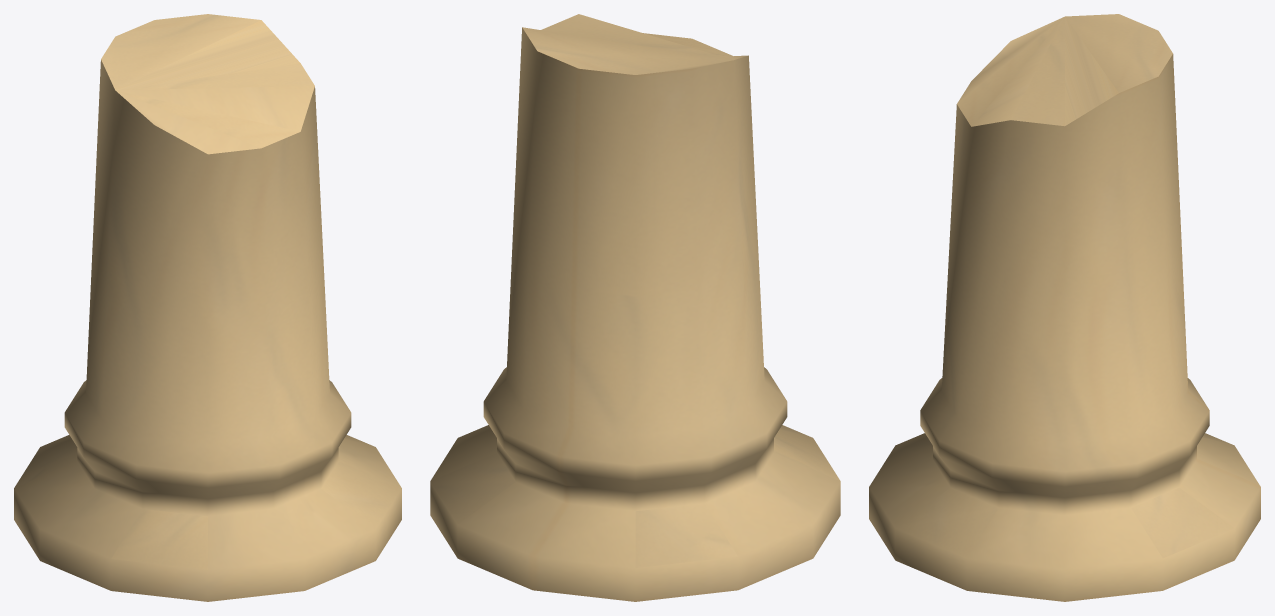
File: Column5B.FBX
3 renders of one model, left to right at view 1: azimuth 30°, elevation 25°; view 2: azimuth 150°, elevation 25°; view 3: azimuth 270°, elevation 25°, orthographic. The views are drawn at different scales.
Visible parts, largest first — view 1: Column5B; view 2: Column5B; view 3: Column5B.
Part boxes in pixels (bbox=[...]): Column5B: bbox=[14, 14, 401, 601]; Column5B: bbox=[430, 14, 840, 601]; Column5B: bbox=[869, 14, 1260, 601].
Size of the model in its own units: 9.32 by 9.32 by 12.22.
1 material, 1 textured.
